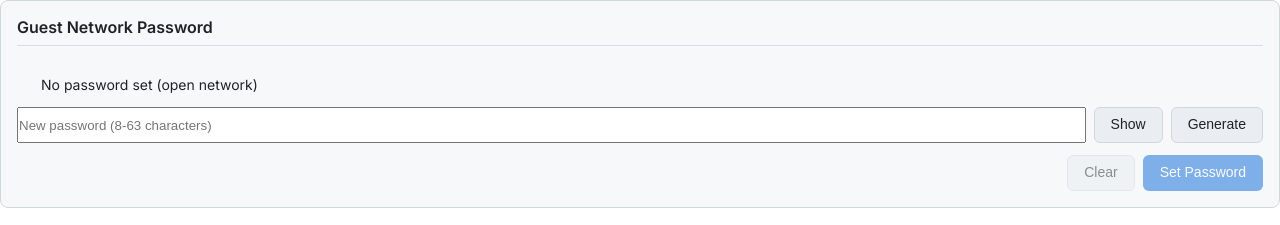
Test case: GuestPasswordCard › never renders the submitted password back onto the page
Expected: the text "No password set (open network)" is shown, x1=41 y1=74 x2=258 y2=95
Click the button "Generate". click: coordinates (1217, 125)
box: x1=1171 y1=107 x2=1263 y2=143
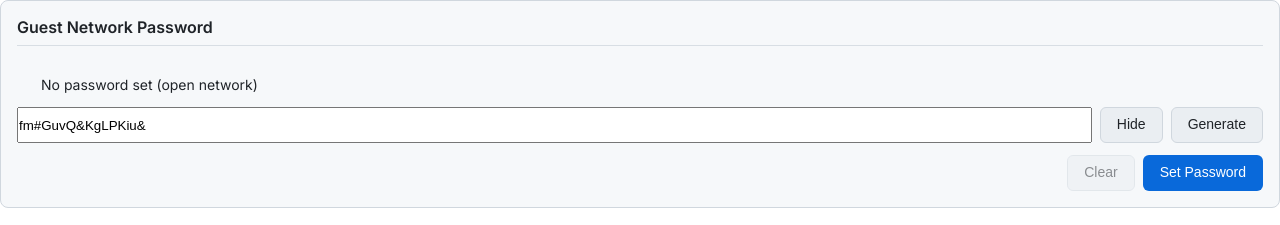
Click the button "Set Password". click: coordinates (1203, 173)
box: x1=1143 y1=155 x2=1263 y2=191
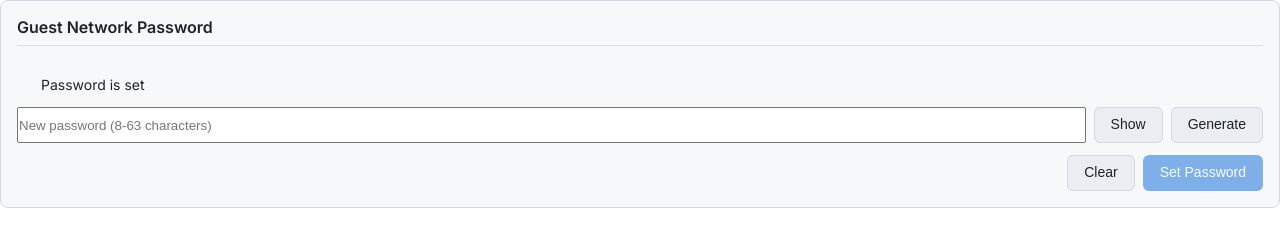
Now the text "Password is set" is shown, box x1=41 y1=74 x2=145 y2=95
